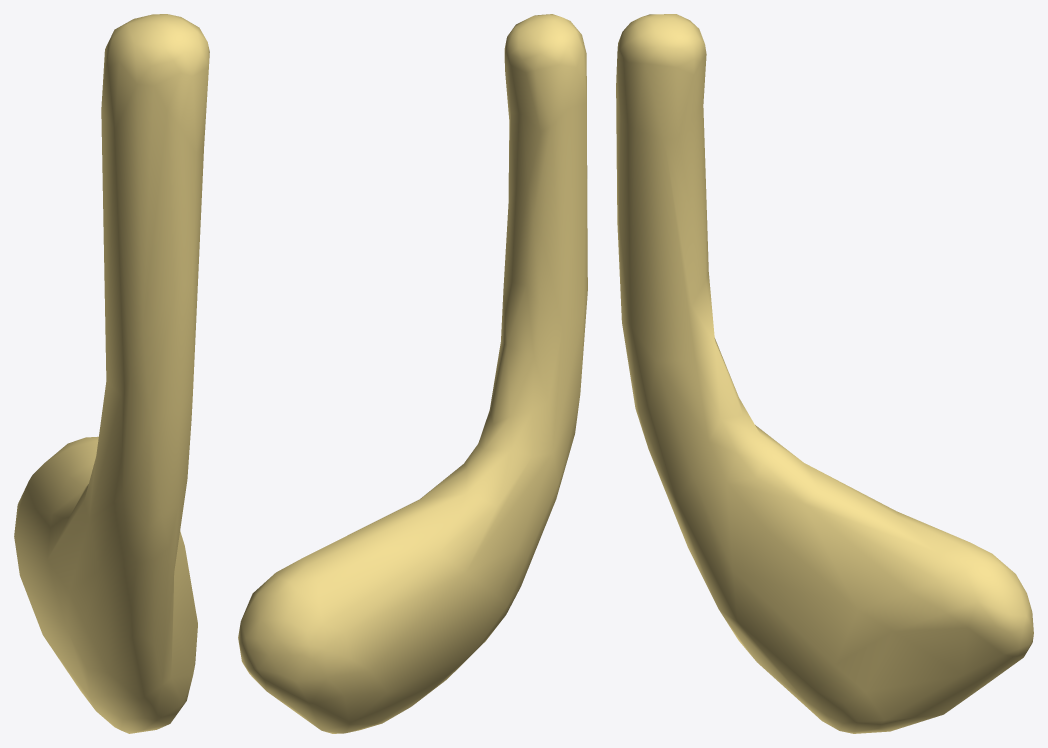
3 renders of one model, left to right at view 1: azimuth 30°, elevation 25°; view 2: azimuth 150°, elevation 25°; view 3: azimuth 270°, elevation 25°, orthographic. The views are drawn at different scales.
Visible parts, largest first — view 1: ZA_06659e7e30b8e3ed; view 2: ZA_06659e7e30b8e3ed; view 3: ZA_06659e7e30b8e3ed.
Boxes of the visible parts, bbox=[...] form: ZA_06659e7e30b8e3ed: bbox=[14, 14, 209, 733]; ZA_06659e7e30b8e3ed: bbox=[238, 14, 587, 733]; ZA_06659e7e30b8e3ed: bbox=[616, 14, 1033, 733].
Size of the model in its own units: 0.00598 by 0.0206 by 0.0116.
